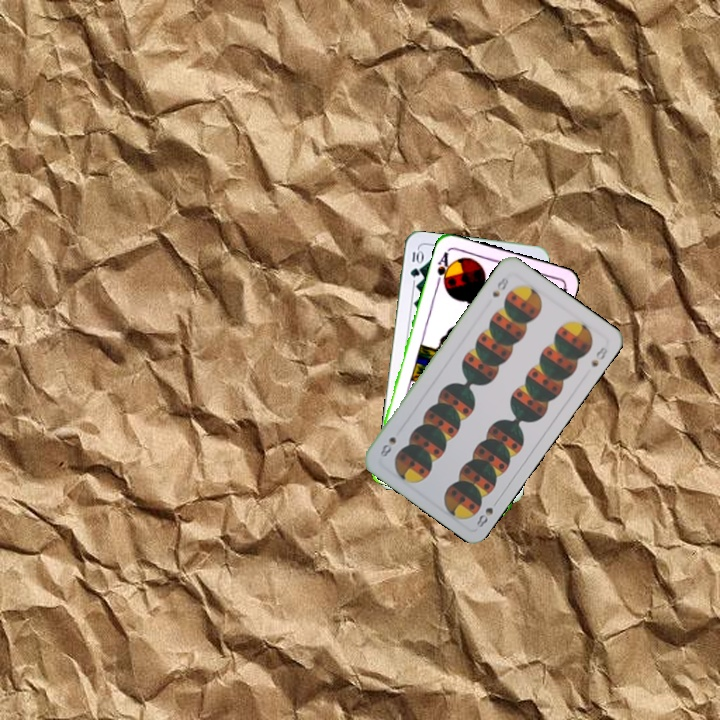G10: (406, 246, 424, 280)
S8: (472, 495, 502, 530), (488, 272, 511, 300)
SA: (433, 247, 454, 289)
